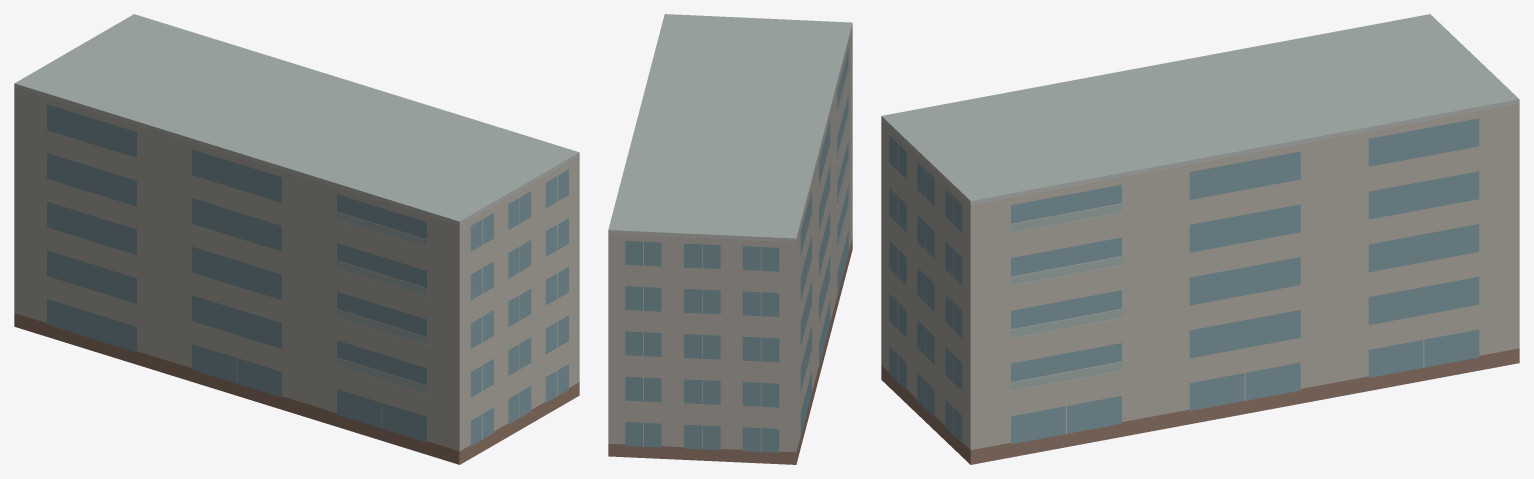
File: survey-upis-32913459.glb
3 views of the same model, side by side, from view 1: azimuth 30°, elevation 25°; view 2: azimuth 150°, elevation 25°; view 3: azimuth 270°, elevation 25° (orthographic). The views are drawn at different scales.
Parts seen in each view (by area): view 1: survey-upis-32913459.tmp; view 2: survey-upis-32913459.tmp; view 3: survey-upis-32913459.tmp.
Boxes of the visible parts, box(x1,y1,x2,y2) form: survey-upis-32913459.tmp: box(14, 14, 579, 464); survey-upis-32913459.tmp: box(608, 14, 852, 464); survey-upis-32913459.tmp: box(881, 14, 1519, 464).
Bounding box in the file's own units: 22.5 × 14.8 × 32.44.
